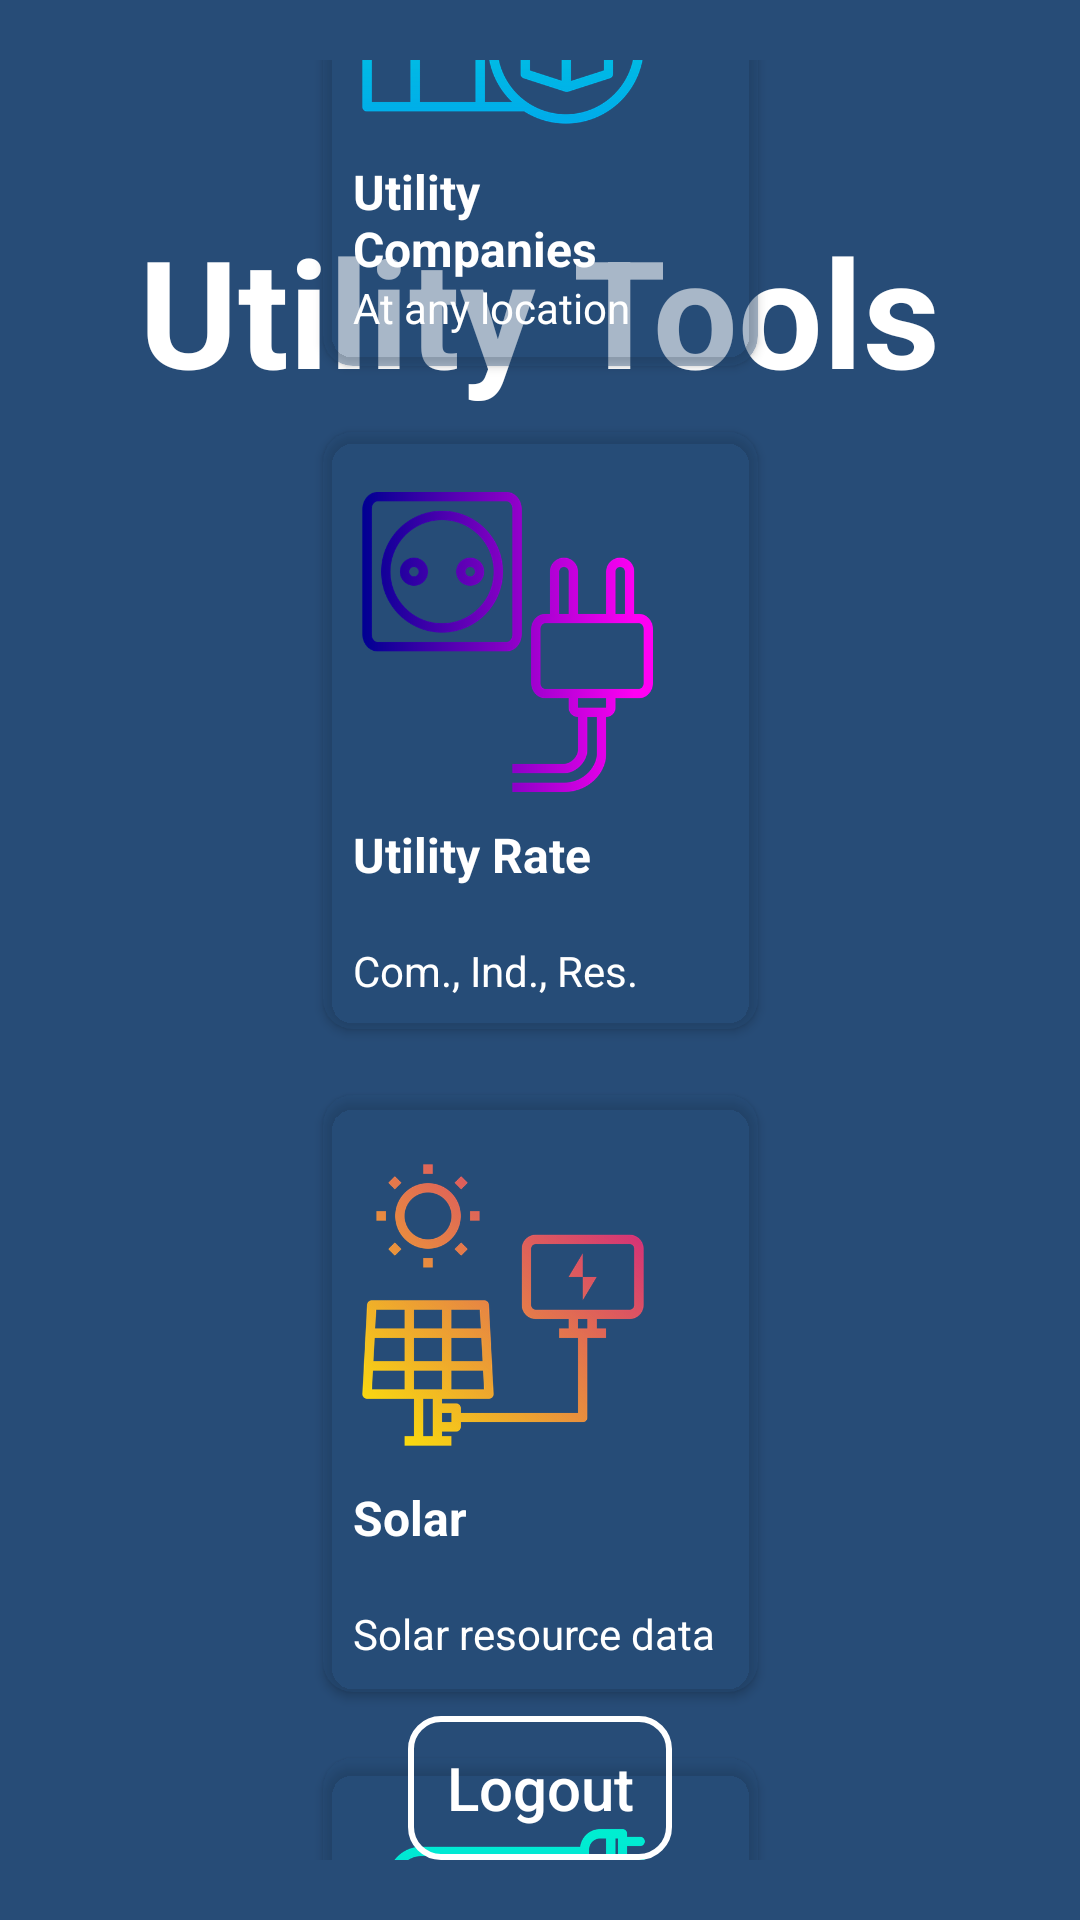

Screen size 1080x1920. Icon name, then its center in pixels as (x,y):
Icon of Electricity: (507,642)
